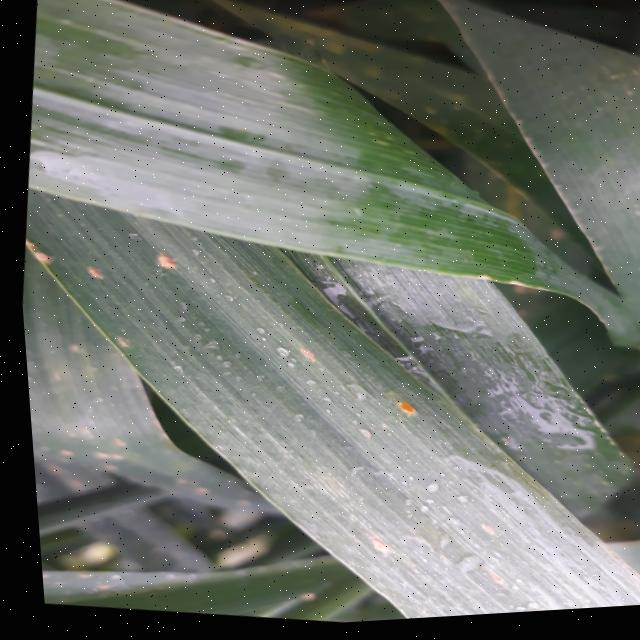orang_rust: (345, 373, 449, 449)
